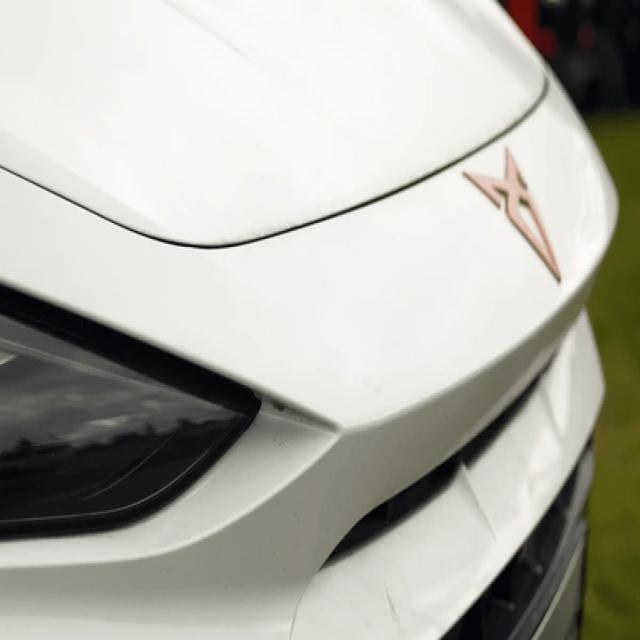cupra: (468, 146, 559, 275)
